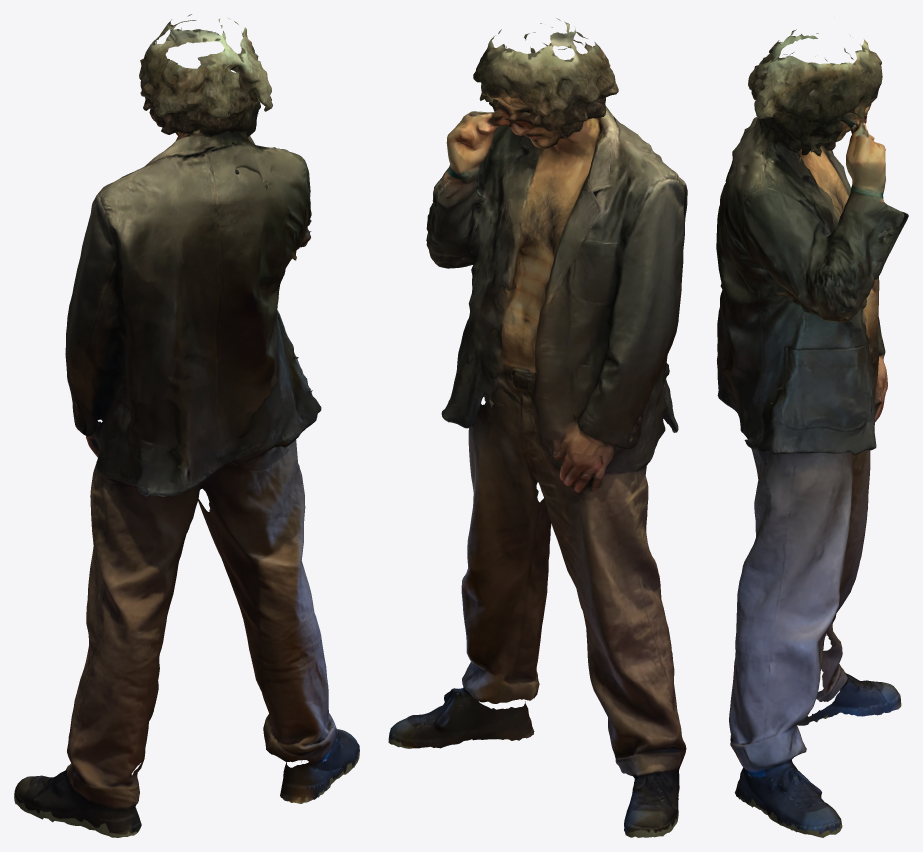
The picture shows the model from 3 angles, left to right: view 1: azimuth 30°, elevation 25°; view 2: azimuth 150°, elevation 25°; view 3: azimuth 270°, elevation 25°; orthographic projection. The views are drawn at different scales.
Size of the model in its own units: 2.31 by 5.51 by 1.29.
Materials: 1 (1 with a texture image).
